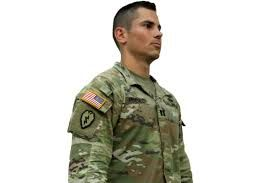uniform: (72, 70, 196, 180)
